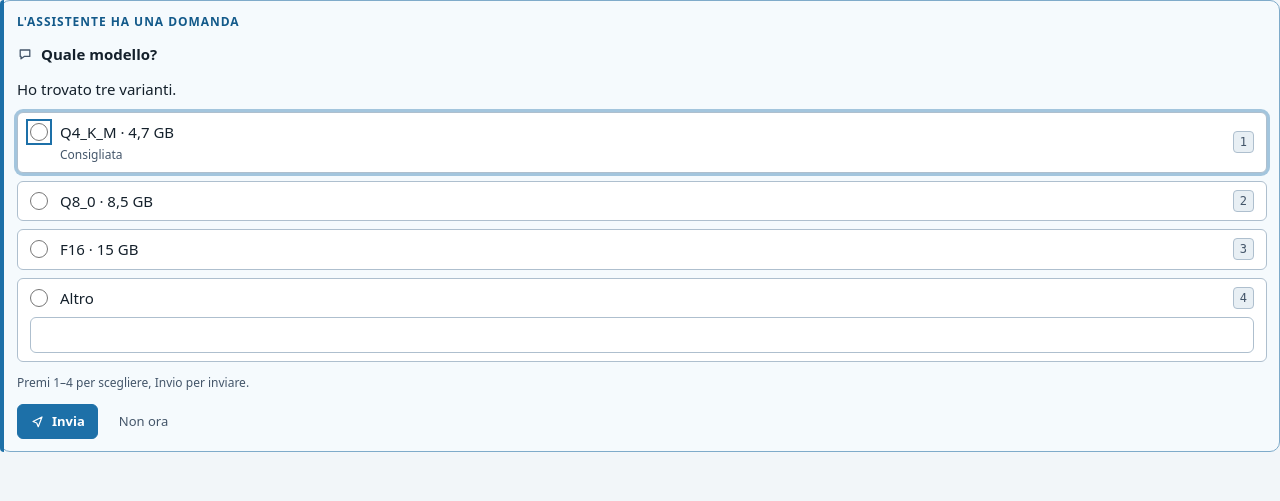
QuestionCard: a choice › «Altro» chosen and left empty is not an answer
This screenshot has width=1280, height=501.
Click the radio button labelled "Altro 4": (39, 298) [30,288,48,306]
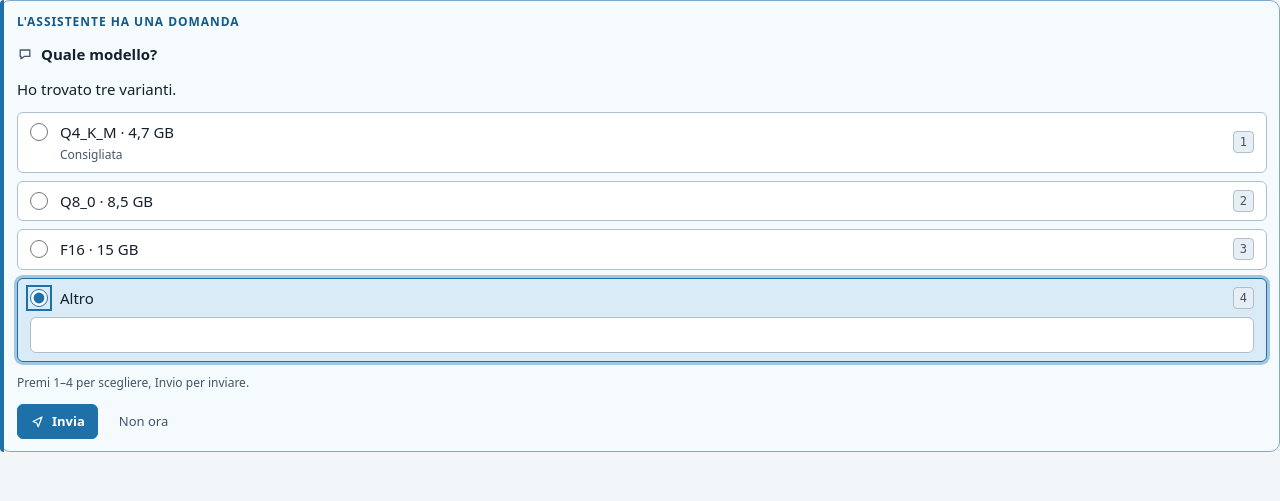
Click the button "Invia": (57, 421) [17,404,98,439]
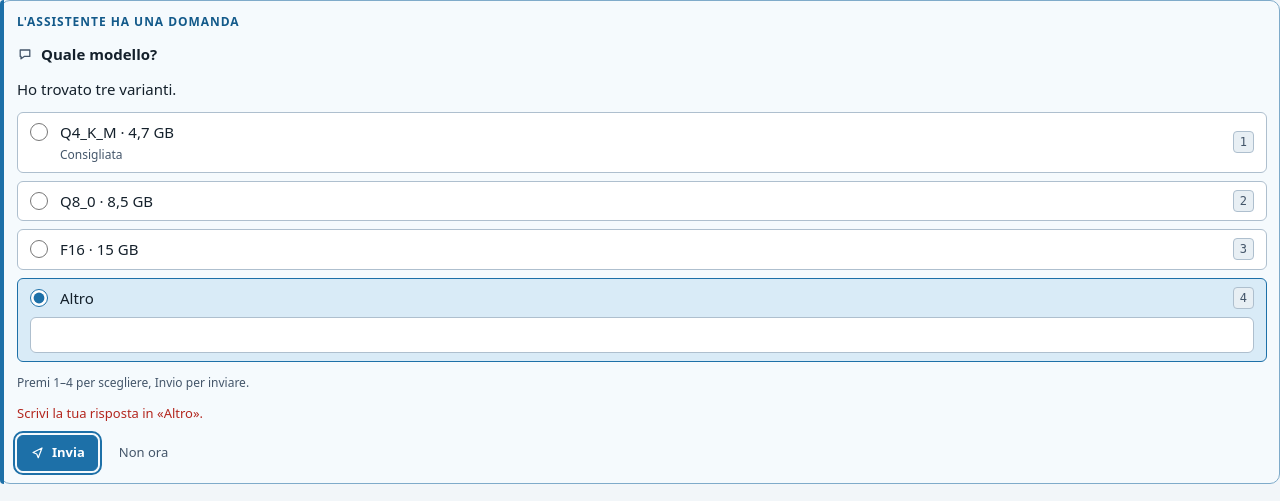
Result: the message reads "Scrivi la tua risposta in «Altro»." at [17,404,203,422]
